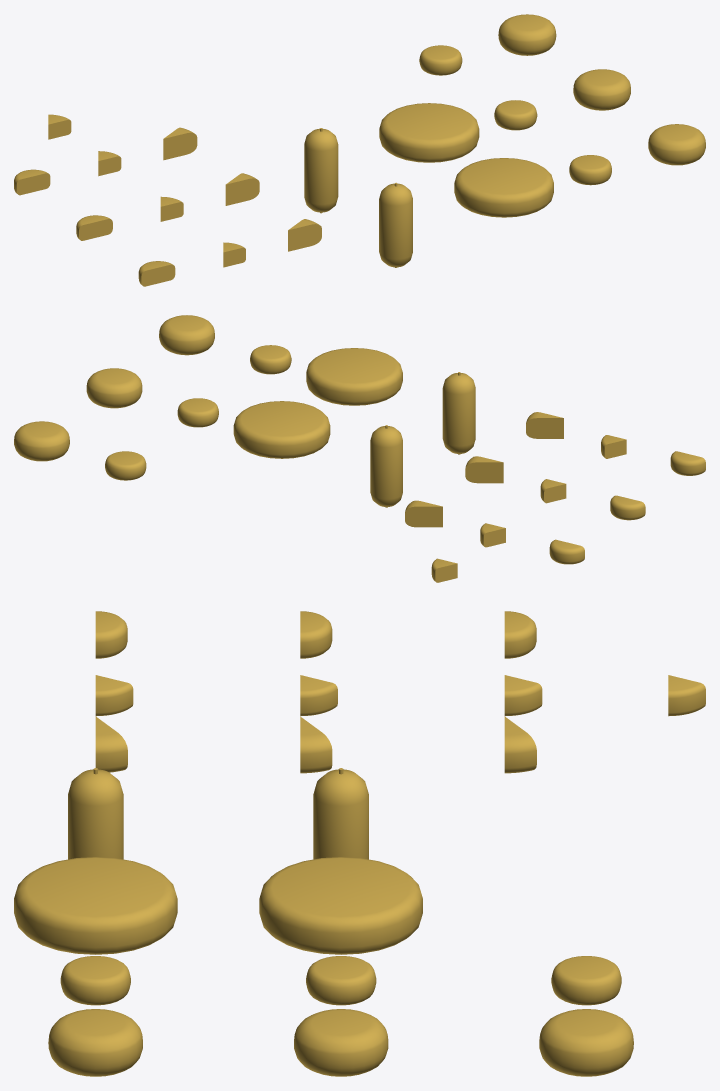
Rendered from Cheese.fbx.
3 views of the same model, one above another, from view 1: azimuth 30°, elevation 25°; view 2: azimuth 150°, elevation 25°; view 3: azimuth 270°, elevation 25° (orthographic). The views are drawn at different scales.
Visible parts, largest first — view 1: Cheese_2_2, Cheese_2_1, Cheese_1_2, Cheese_1_1, Cheese_4_3, Cheese_4_1, Cheese_4_2, Cheese_3_3, Cheese_3_2, Cheese_3_1, Cheese_5_2, Cheese_5_3 (+8 smaller); view 2: Cheese_2_1, Cheese_2_2, Cheese_1_1, Cheese_1_2, Cheese_4_3, Cheese_4_2, Cheese_4_1, Cheese_3_2, Cheese_3_1, Cheese_3_3, Cheese_5_2, Cheese_5_3 (+8 smaller); view 3: Cheese_2_1, Cheese_2_2, Cheese_4_3, Cheese_4_2, Cheese_4_1, Cheese_1_2, Cheese_1_1, Cheese_3_1, Cheese_3_2, Cheese_3_3, Cheese_5_3, Cheese_5_2 (+8 smaller).
Boxes of the visible parts, x1,y1,x2,y2 form: Cheese_2_2: (379,103,479,162); Cheese_2_1: (454,158,553,217); Cheese_1_2: (304,128,338,213); Cheese_1_1: (379,182,412,267); Cheese_4_3: (498,14,556,55); Cheese_4_1: (648,124,705,165); Cheese_4_2: (573,69,630,110); Cheese_3_3: (419,45,462,75); Cheese_3_2: (494,100,537,130); Cheese_3_1: (569,155,611,185); Cheese_5_2: (225,173,259,205); Cheese_5_3: (163,127,197,160); Cheese_2_1: (306,348,402,405); Cheese_2_2: (233,401,330,458); Cheese_1_1: (442,372,475,454); Cheese_1_2: (370,425,402,507); Cheese_4_3: (14,421,69,461); Cheese_4_2: (86,368,142,408); Cheese_4_1: (159,315,214,355); Cheese_3_2: (177,398,218,427); Cheese_3_1: (250,345,291,374); Cheese_3_3: (105,451,146,480); Cheese_5_2: (465,456,503,483); Cheese_5_3: (405,500,442,527); Cheese_2_1: (14,857,177,954); Cheese_2_2: (259,857,422,954); Cheese_4_3: (539,1009,633,1076); Cheese_4_2: (294,1009,388,1076); Cheese_4_1: (48,1009,142,1076); Cheese_1_2: (313,768,368,859); Cheese_1_1: (68,768,123,859); Cheese_3_1: (60,956,130,1005); Cheese_3_2: (306,956,376,1005); Cheese_3_3: (551,956,621,1005); Cheese_5_3: (504,716,536,773); Cheese_5_2: (300,716,332,773).
Bounding box in the file's own units: 259 × 37.22 × 169.
